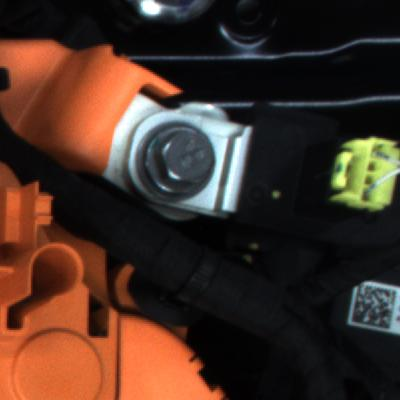nut_b: (132, 115, 236, 214)
